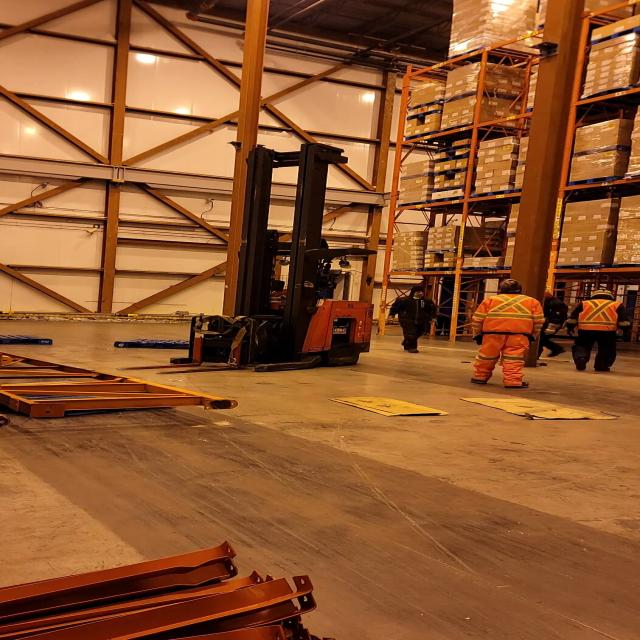forklift: (167, 152, 377, 374)
human: (464, 277, 540, 389), (563, 286, 632, 375), (380, 283, 442, 356), (522, 284, 566, 367)
objectofinterest: (0, 346, 239, 421), (458, 392, 620, 424), (324, 392, 454, 419), (114, 335, 232, 354), (0, 330, 59, 344)
